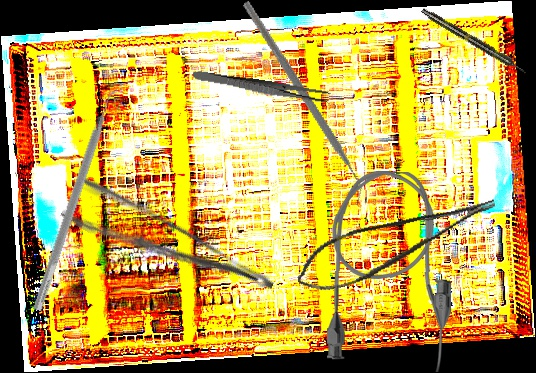Cannula: (326, 170, 454, 373)
Chopper: (185, 0, 418, 207)
Dressing Forceps: (59, 171, 277, 324), (191, 69, 332, 105)
Handpiece: (419, 6, 529, 77)
Micro Scissor: (288, 192, 507, 300)
Spatula Surgical: (32, 85, 124, 315)
